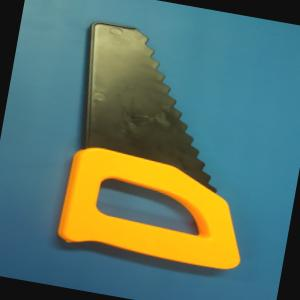serrote: (49, 17, 278, 273)
